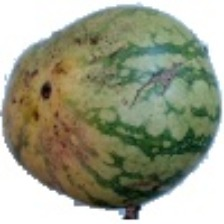watermelon: (2, 15, 182, 192)
